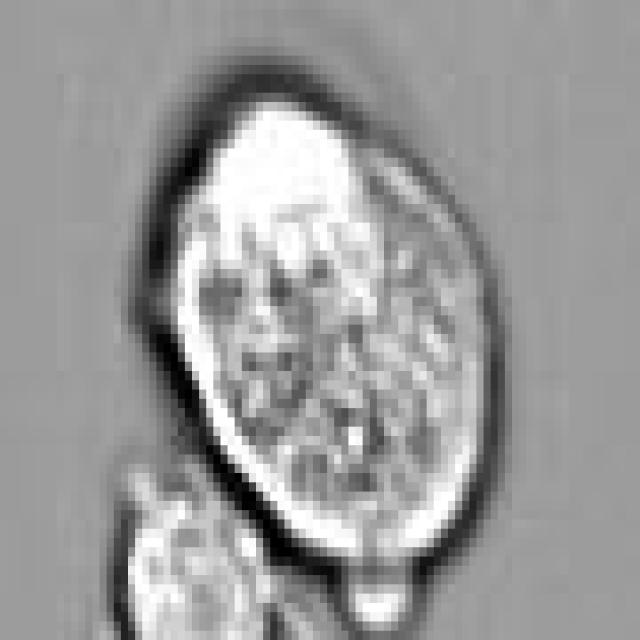Cancer Cell: (156, 83, 505, 566)
WBC: (121, 482, 270, 640)
